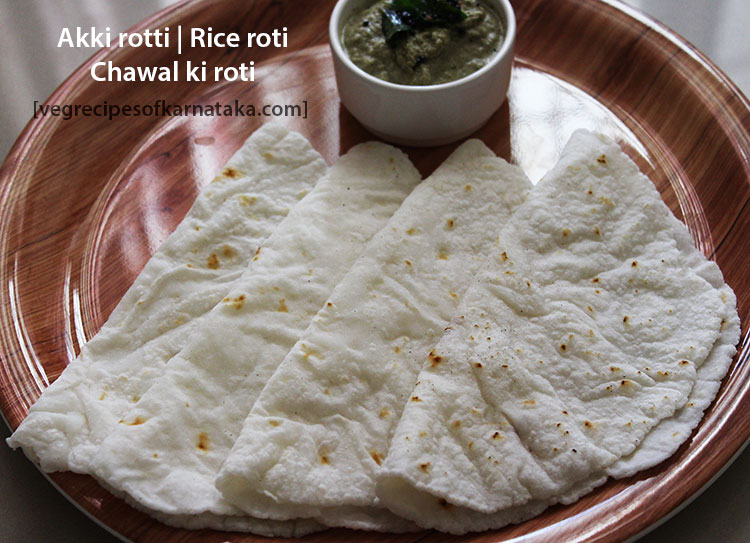slice of bread: (380, 163, 729, 509), (217, 160, 575, 491), (93, 164, 407, 481), (13, 136, 302, 445)
